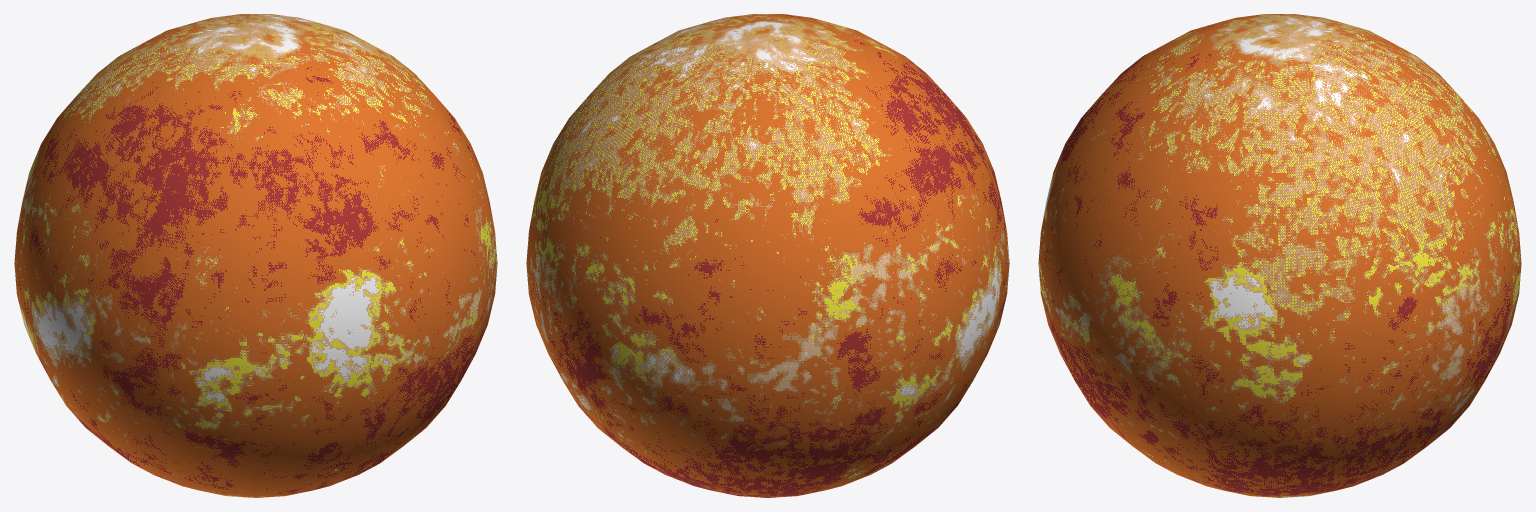
Rendered from sun.glb.
The picture shows the model from 3 angles, left to right: view 1: azimuth 30°, elevation 25°; view 2: azimuth 150°, elevation 25°; view 3: azimuth 270°, elevation 25°; orthographic projection.
Visible parts, largest first — view 1: pSphere3; view 2: pSphere3; view 3: pSphere3.
Part boxes in pixels (x1,y1,x2,y2): pSphere3: [14, 14, 497, 497]; pSphere3: [526, 14, 1009, 497]; pSphere3: [1038, 14, 1521, 497].
Size of the model in its own units: 1.17 by 1.17 by 1.17.
Materials: 1 (1 with a texture image).
